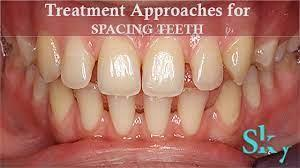Spaced: (204, 92, 220, 113), (185, 58, 193, 90), (134, 91, 144, 116), (89, 56, 98, 83), (100, 92, 109, 113), (222, 61, 230, 81), (139, 60, 144, 90), (171, 97, 178, 114)
